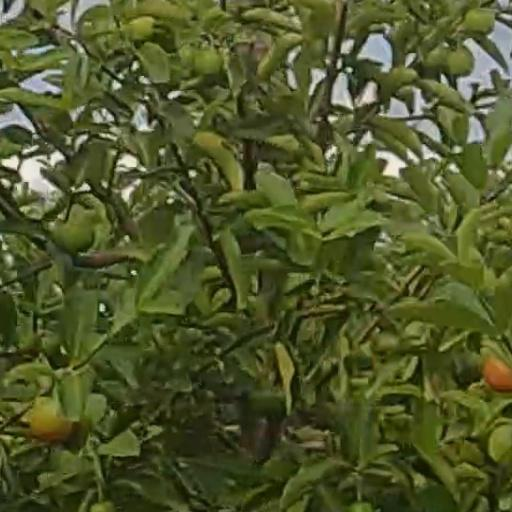acerola_verde: (54, 222, 97, 252), (447, 46, 473, 75)
acerola_vermelha: (33, 399, 66, 438), (485, 352, 511, 389)
